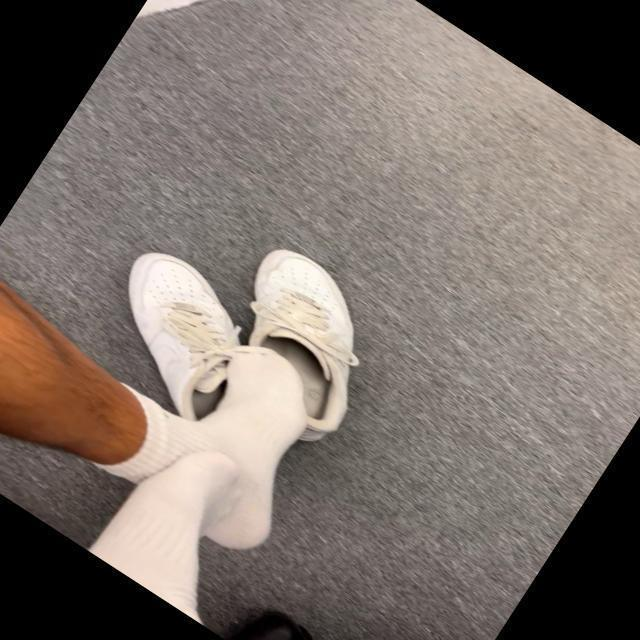nike fake air force: (14, 229, 373, 575), (180, 233, 412, 467)
